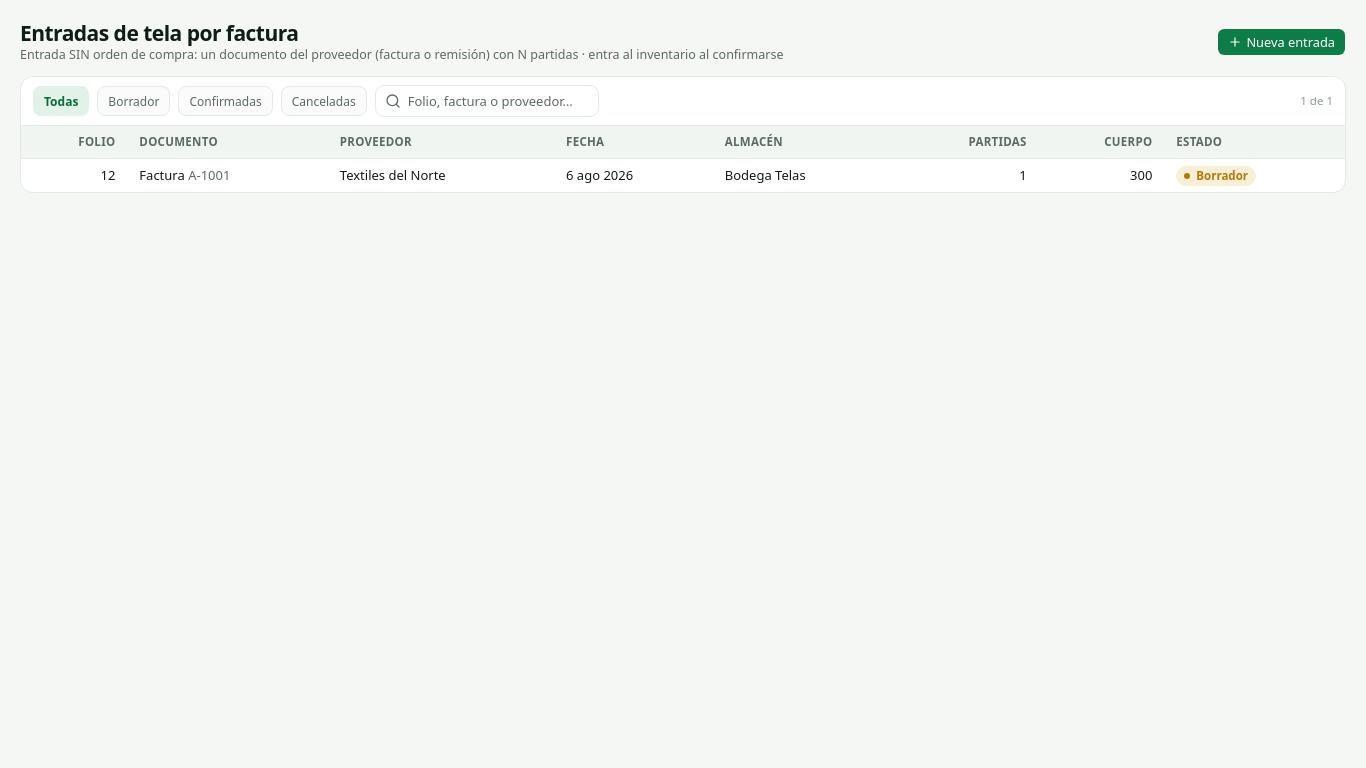
Test: EntradasTelaPagina (B1) › B1: el AVISO de factura repetida se ve en el cajón (informa, no bloquea)
Click the row with test id "fila-entrada-5": [162, 175] box [21,158,1345,192]
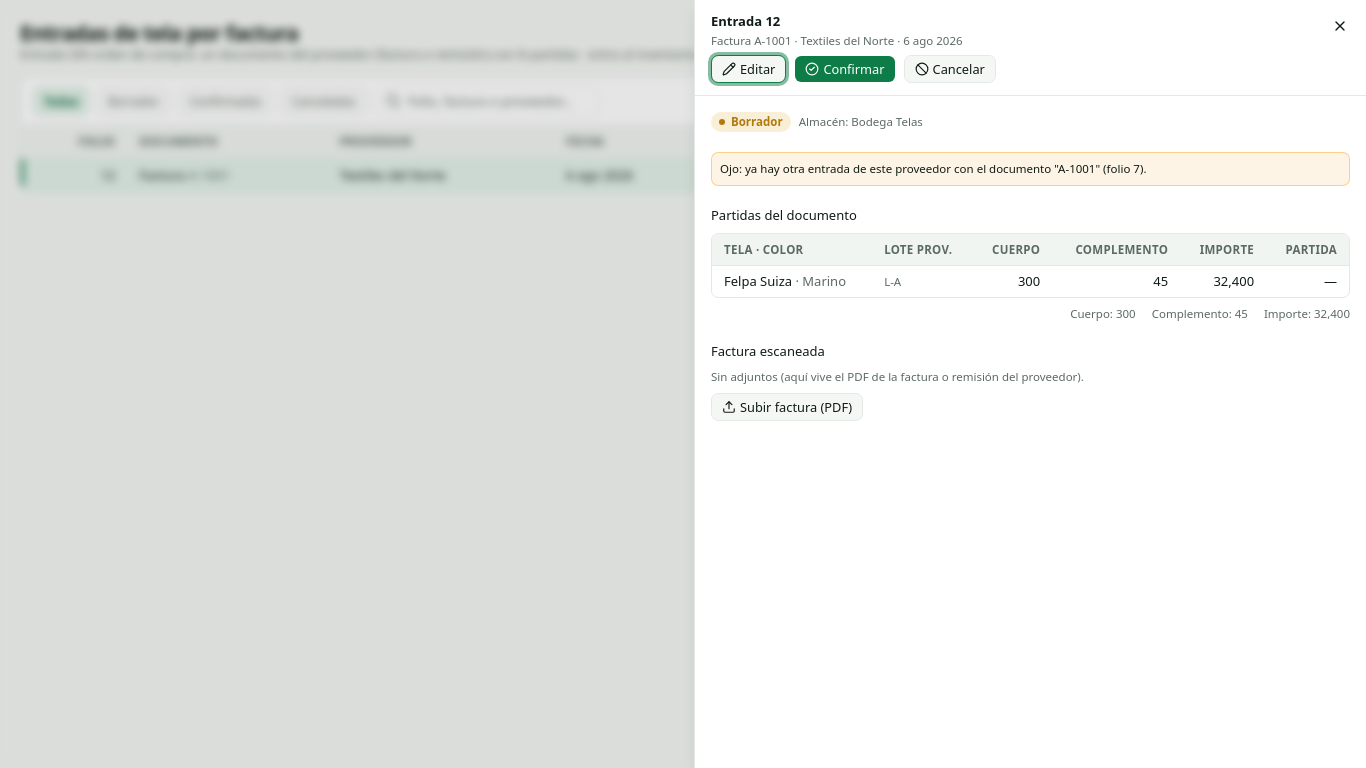
Check: the message with test id "entrada-aviso" shows "A-1001", box [720,161,1146,176]
Check: the button with test id "entrada-confirmar" is enabled, box [794,55,896,83]
